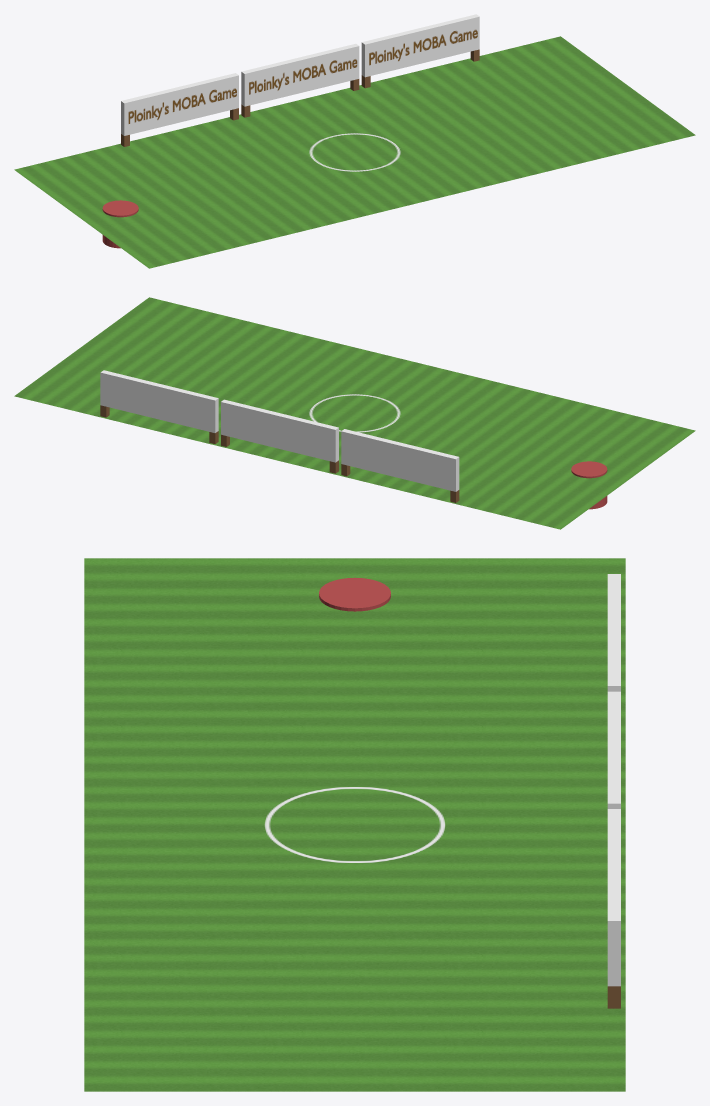
The model's file is map1.glb.
3 renders of one model, top to bottom at view 1: azimuth 30°, elevation 25°; view 2: azimuth 150°, elevation 25°; view 3: azimuth 270°, elevation 25°, orthographic. The views are drawn at different scales.
Parts seen in each view (by area): view 1: Cube.002, Cube.001, Cube, Plane.033, Plane.020, Plane.029, Plane.030, Plane.027, Plane.005, Plane.008, Plane.034, Plane.010 (+13 smaller); view 2: Cube, Cube.002, Cube.001, Plane.020, Plane.029, Plane.030, Plane.011, Plane.023, Plane.034, Plane.021, Plane.005, Plane.027 (+13 smaller); view 3: Plane.007, Plane.027, Plane.006, Plane.004, Plane.010, Plane.020, Plane.021, Plane.029, Plane.034, Plane.005, Plane.008, Plane.011 (+13 smaller).
Boxes of the visible parts, box(x1,y1,x2,y2) form: Cube.002: box(361, 14, 479, 88); Cube.001: box(241, 43, 359, 117); Cube: box(121, 73, 238, 146); Plane.033: box(293, 126, 416, 178); Plane.020: box(417, 140, 539, 192); Plane.029: box(182, 197, 304, 249); Plane.030: box(14, 150, 136, 202); Plane.027: box(137, 164, 259, 216); Plane.005: box(261, 178, 382, 230); Plane.008: box(483, 36, 605, 88); Plane.034: box(104, 217, 226, 268); Plane.010: box(528, 69, 650, 121); Cube: box(341, 429, 459, 502); Cube.002: box(100, 370, 218, 443); Cube.001: box(221, 399, 338, 473); Plane.020: box(260, 335, 383, 387); Plane.029: box(495, 392, 617, 444); Plane.030: box(483, 477, 605, 529); Plane.011: box(104, 297, 226, 349); Plane.023: box(339, 354, 461, 406); Plane.034: box(573, 411, 695, 463); Plane.021: box(183, 316, 304, 368); Plane.005: box(417, 373, 539, 425); Plane.027: box(454, 425, 572, 477); Plane.007: box(264, 939, 445, 1015); Plane.027: box(264, 634, 445, 710); Plane.006: box(264, 863, 445, 939); Plane.004: box(264, 710, 445, 786); Plane.010: box(264, 1015, 445, 1091); Plane.020: box(84, 863, 264, 939); Plane.021: box(84, 939, 264, 1015); Plane.029: box(84, 634, 264, 710); Plane.034: box(84, 558, 264, 634); Plane.005: box(84, 710, 264, 786); Plane.008: box(445, 1015, 625, 1091); Plane.011: box(84, 1015, 264, 1091).
Size of the model in its own units: 3500 by 458 by 1500.
4 materials, 4 textured.
